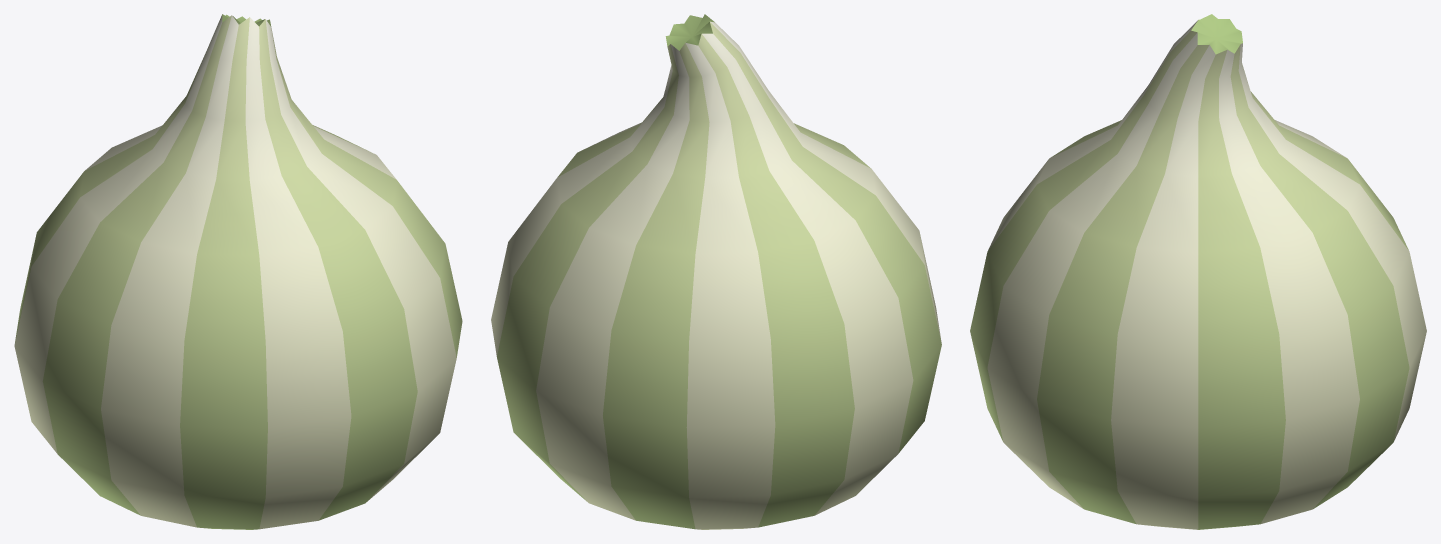
Rendered from Onion_01.glb.
The picture shows the model from 3 angles, left to right: view 1: azimuth 30°, elevation 25°; view 2: azimuth 150°, elevation 25°; view 3: azimuth 270°, elevation 25°; orthographic projection.
Parts seen in each view (by area): view 1: Onion_01; view 2: Onion_01; view 3: Onion_01.
Boxes of the visible parts, box(x1,y1,x2,y2) form: Onion_01: box(14, 14, 462, 529); Onion_01: box(491, 14, 941, 529); Onion_01: box(970, 14, 1426, 529).
Size of the model in its own units: 0.2283 by 0.2708 by 0.2283.
1 material, 1 textured.
